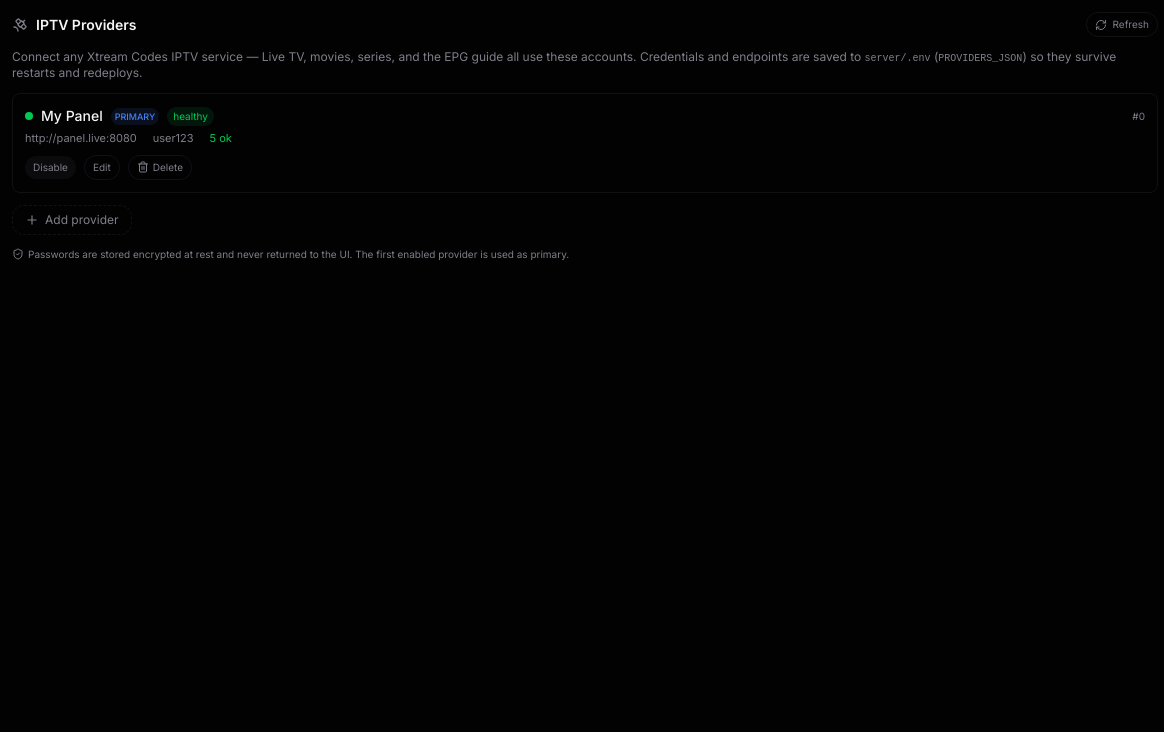
Scenario: ProviderSettings › opens edit form pre-filled from an existing provider
Check: the text "Connect any Xtream Codes IPTV service" is shown, box [12,49,861,64]
What coordinates should you click on to do the following:
click the button "Edit"
I would click on:
 (102, 167)
Its box is [84,155,120,180].
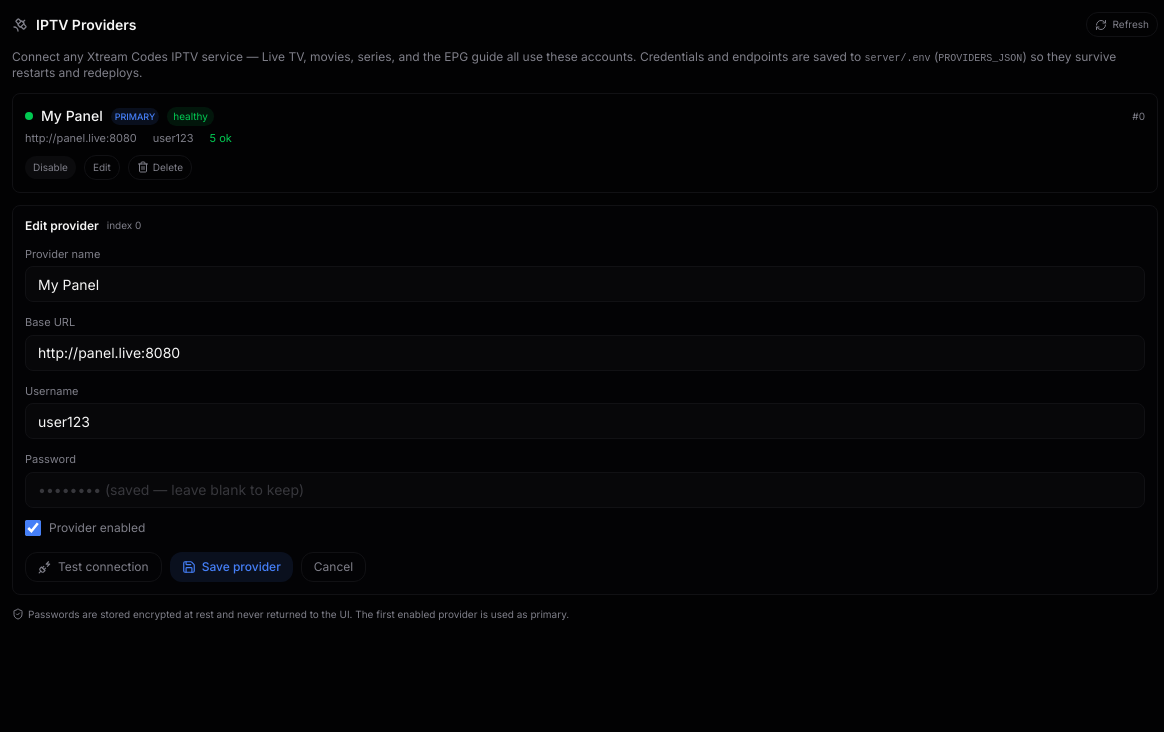
Check: the field labelled "Base URL" holds "http://panel.live:8080", box [25,335,1145,371]
Check: the field labelled "Username" holds "user123", box [25,403,1145,439]
Check: the password field labelled "Password" is empty, box [25,472,1145,508]
